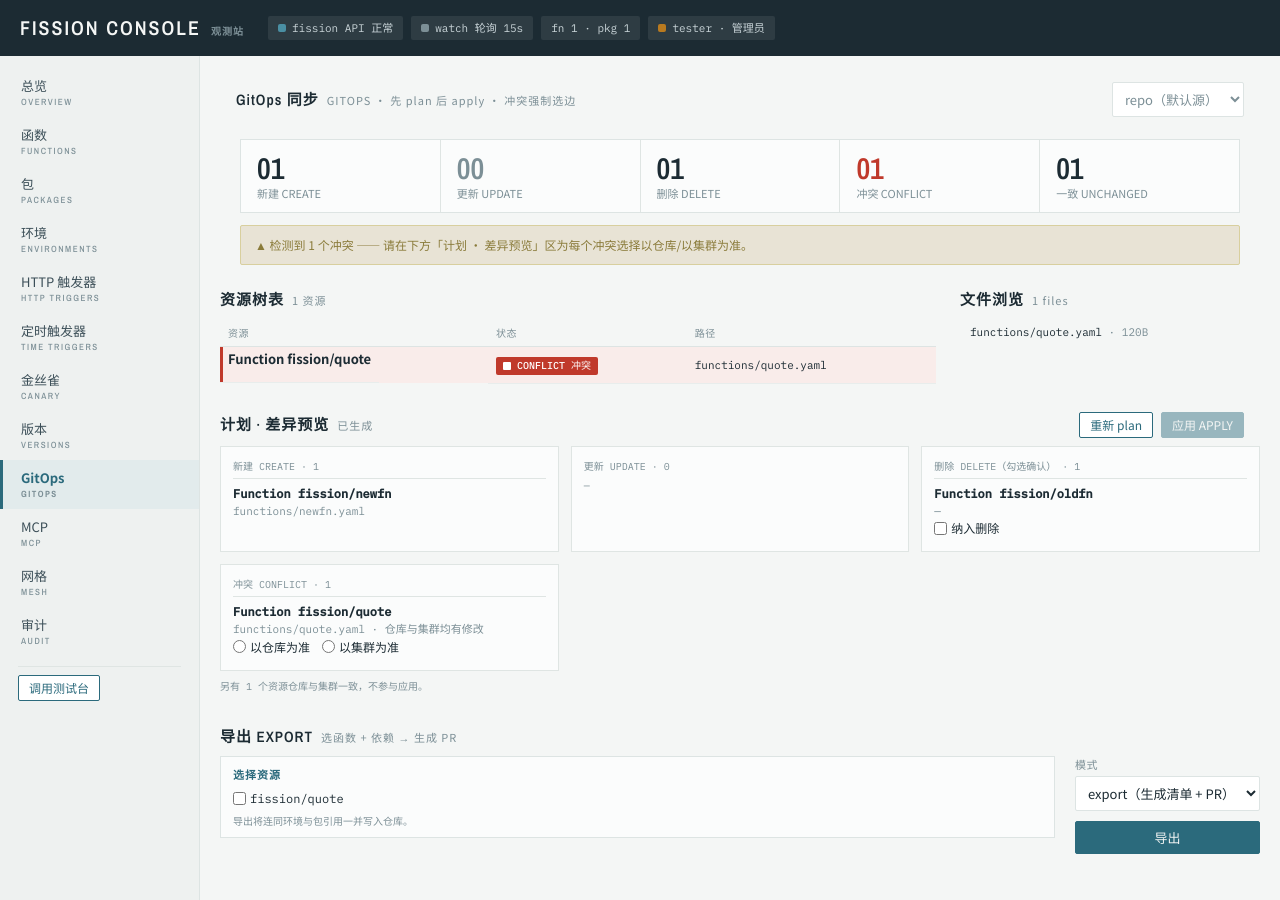
Test: J7 · GitOps 旅程 › case2 配置好：五格计数带 → 冲突选边（以仓库为准）→ APPLY 解锁 → ConfirmDialog → POST apply → toast
Check: the text "新建 CREATE" is shown, box x1=257 y1=185 x2=321 y2=201
Check: the text "更新 UPDATE" is shown, box x1=457 y1=185 x2=523 y2=201
Click the radio button labelled "以仓库为准" at (240, 646), box x1=233 y1=640 x2=246 y2=653
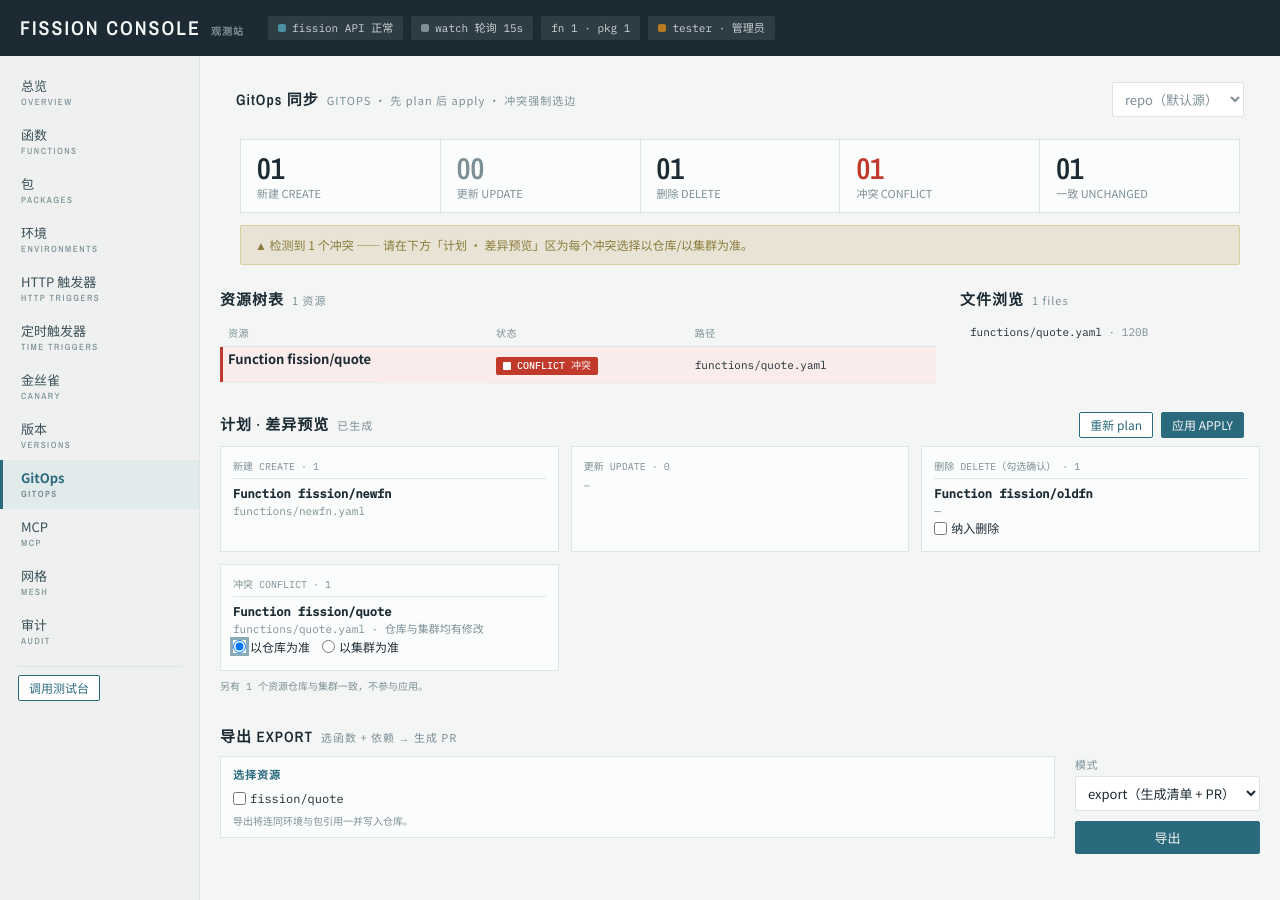
Check: the button "应用 APPLY" is enabled
Click the button "应用 APPLY" at (1202, 424), box x1=1161 y1=412 x2=1244 y2=438
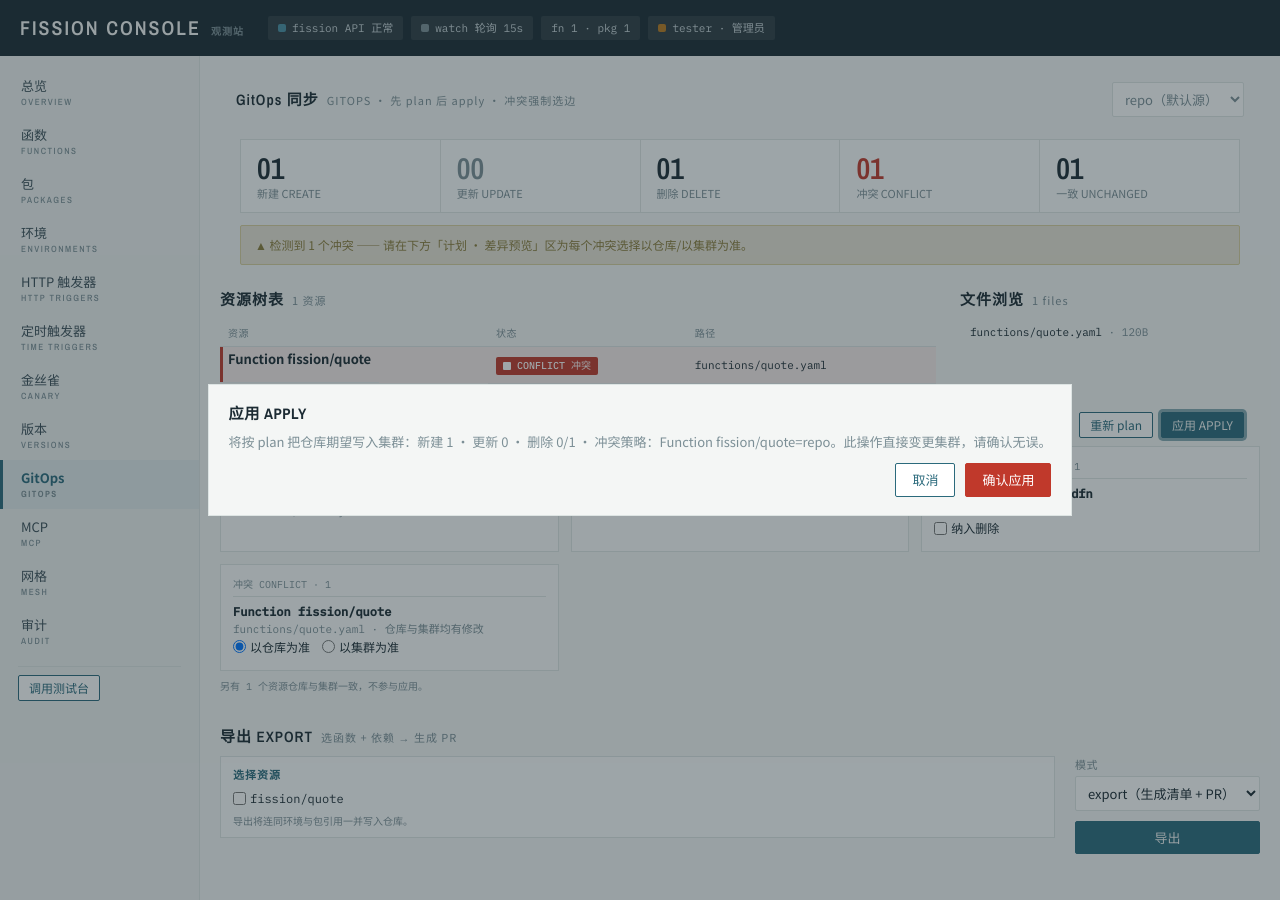
Check: the text "冲突策略：Function fission/quote=repo" is shown, box x1=228 y1=432 x2=1052 y2=451
Click the button "确认应用" at (1008, 480), box x1=966 y1=463 x2=1052 y2=497
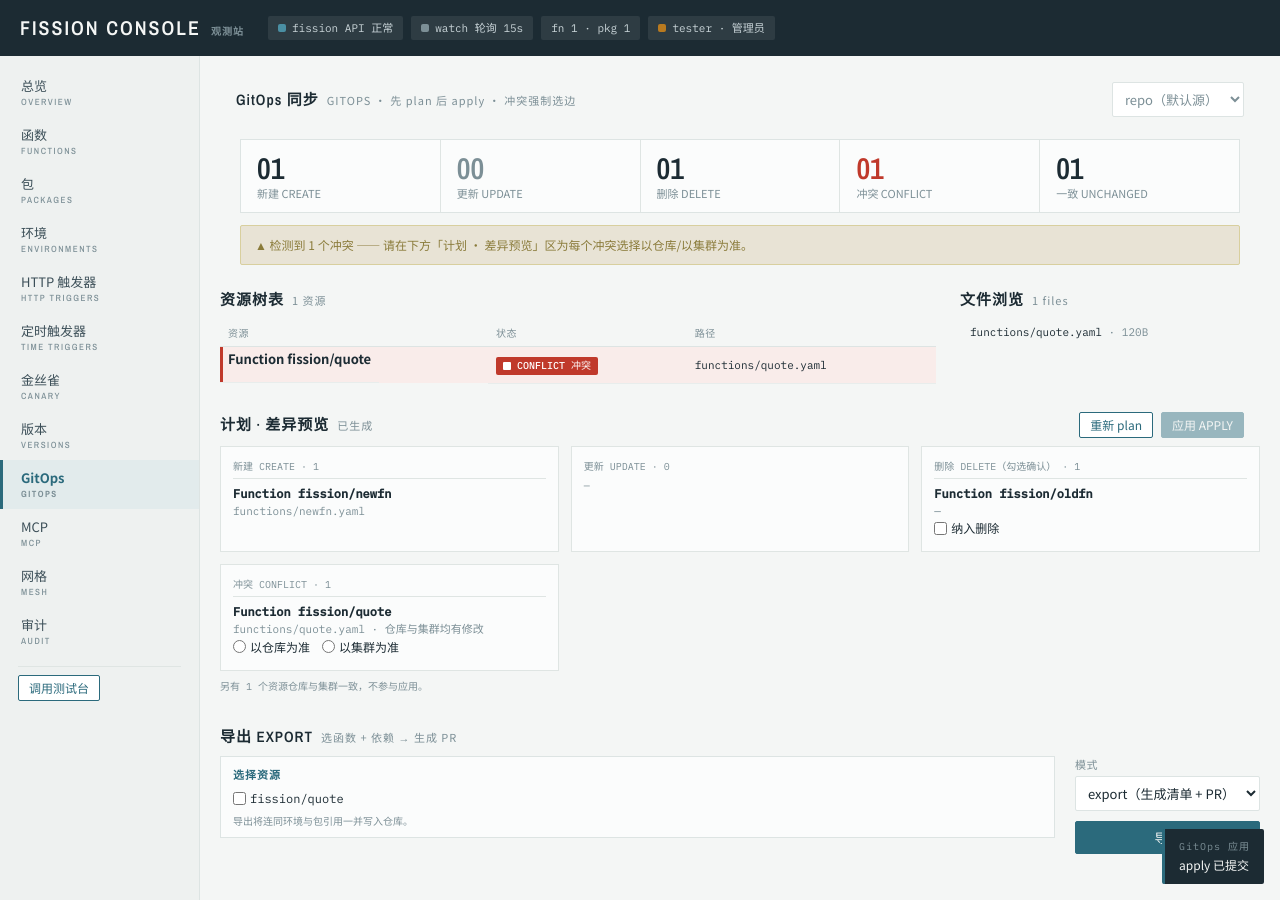
Check: the text "GitOps 应用 apply 已提交" is shown, box x1=1162 y1=829 x2=1264 y2=884
